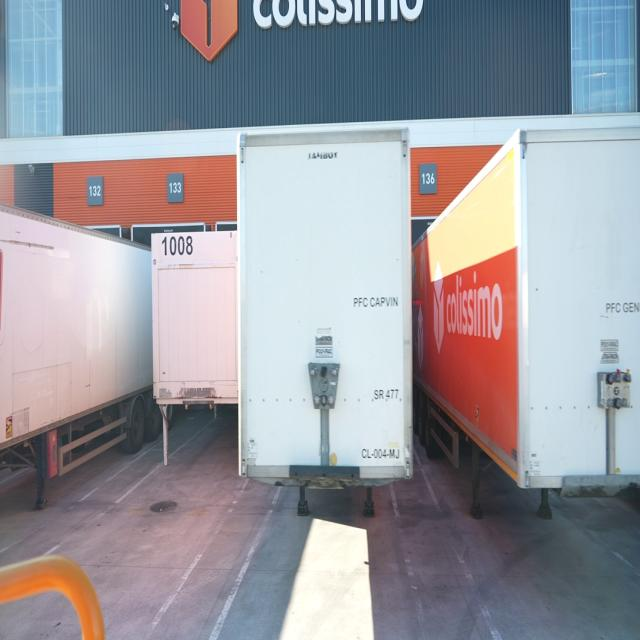Code: (158, 230, 196, 260)
